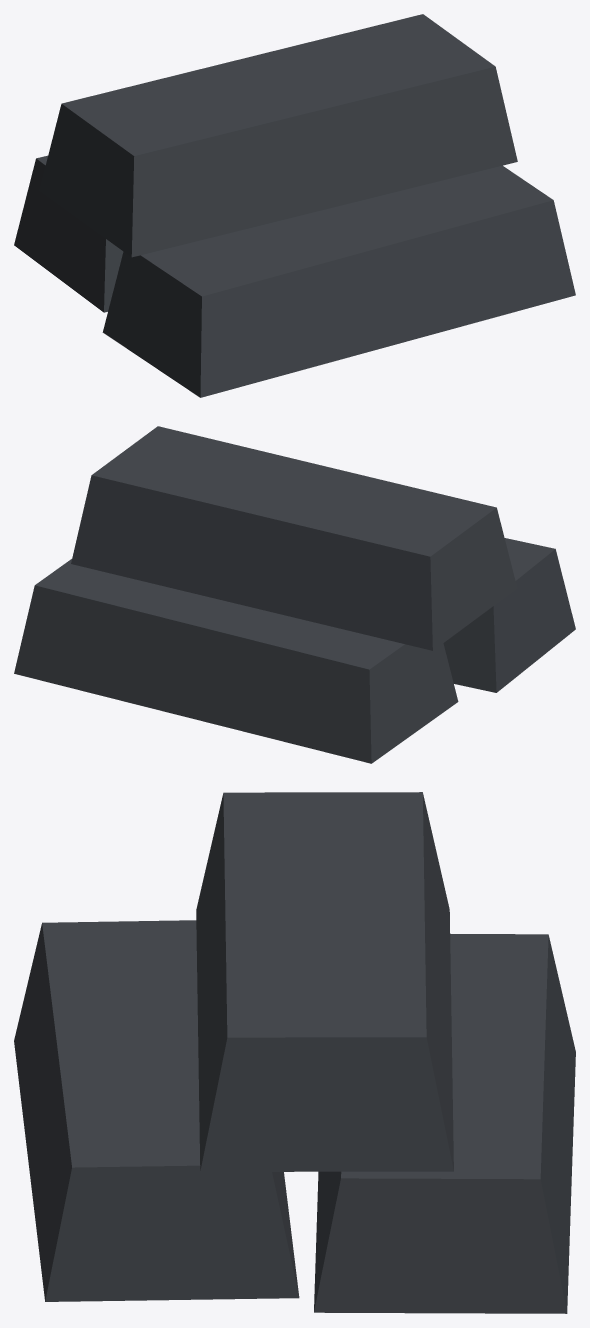
The model's file is SM_Iron_Ingots.glb.
3 renders of one model, top to bottom at view 1: azimuth 30°, elevation 25°; view 2: azimuth 150°, elevation 25°; view 3: azimuth 270°, elevation 25°, orthographic. The views are drawn at different scales.
Parts seen in each view (by area): view 1: SM_Iron_Ingots; view 2: SM_Iron_Ingots; view 3: SM_Iron_Ingots.
Part boxes in pixels (x1,y1,x2,y2): SM_Iron_Ingots: [14, 14, 575, 397]; SM_Iron_Ingots: [14, 426, 575, 763]; SM_Iron_Ingots: [14, 792, 575, 1313].
Size of the model in its own units: 0.7 by 0.3 by 0.6.
1 material, 1 textured.
